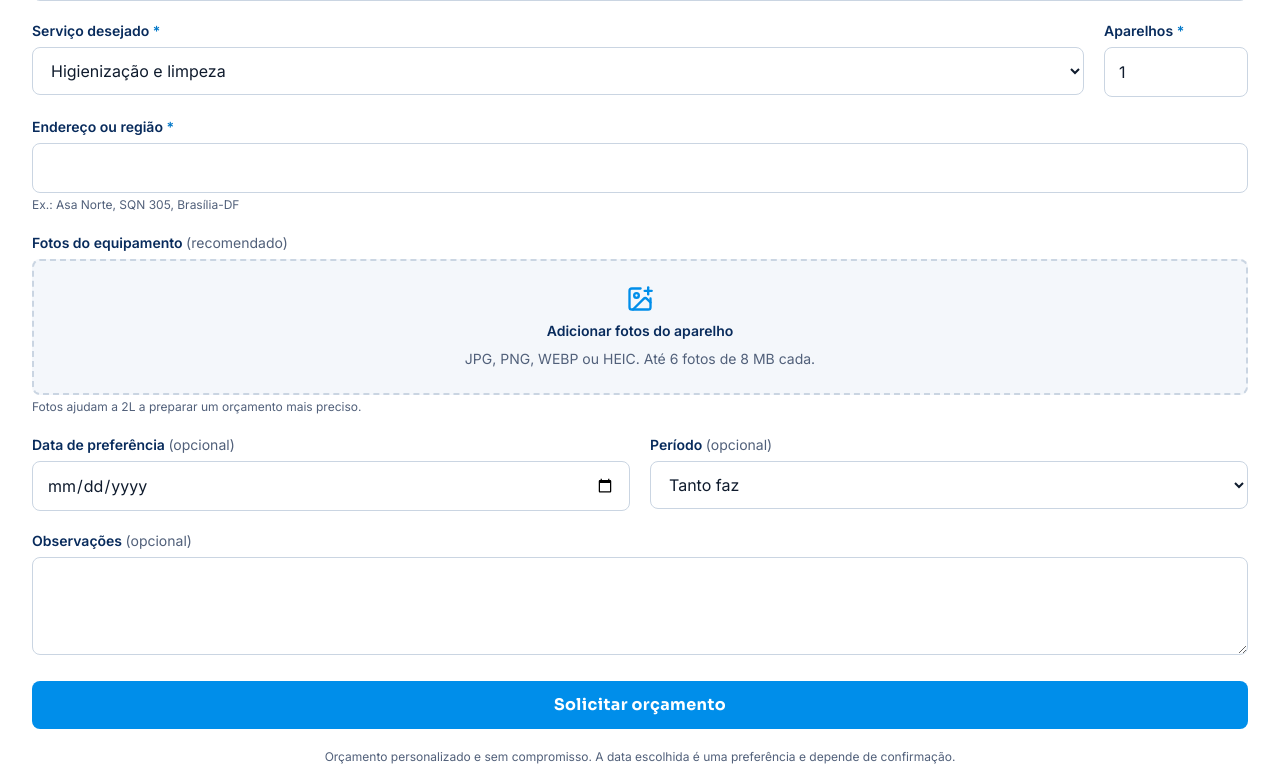
QuoteForm › mostra erros e não envia com campos obrigatórios vazios
(page scrolled)
What coordinates should you click on to do the following:
click the button "Solicitar orçamento"
I would click on:
 (640, 705)
Its box is [32,681,1248,729].
(page scrolled)
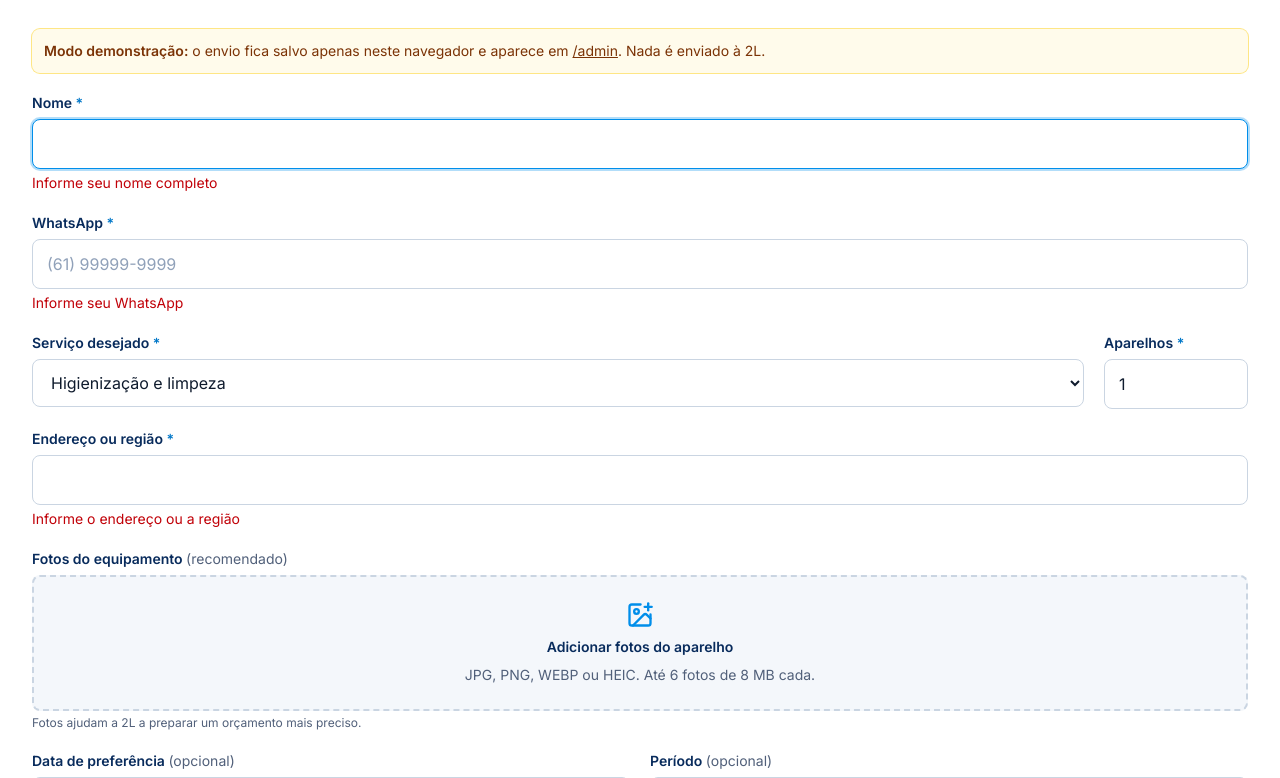
Result: the text "Informe seu nome completo" is shown at [32,174,218,191]
